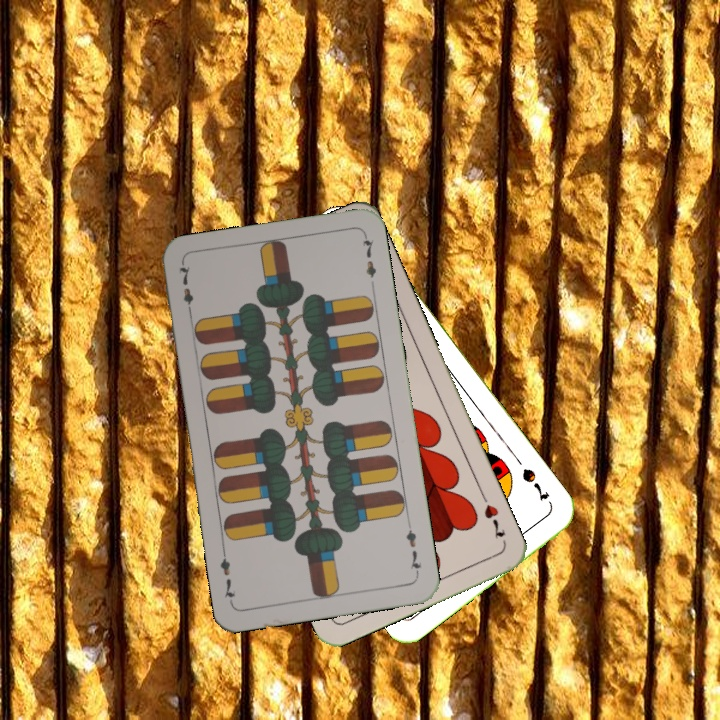E7: (174, 260, 196, 319), (402, 526, 424, 578)
H7: (477, 489, 508, 540)
S7: (518, 464, 553, 504)
